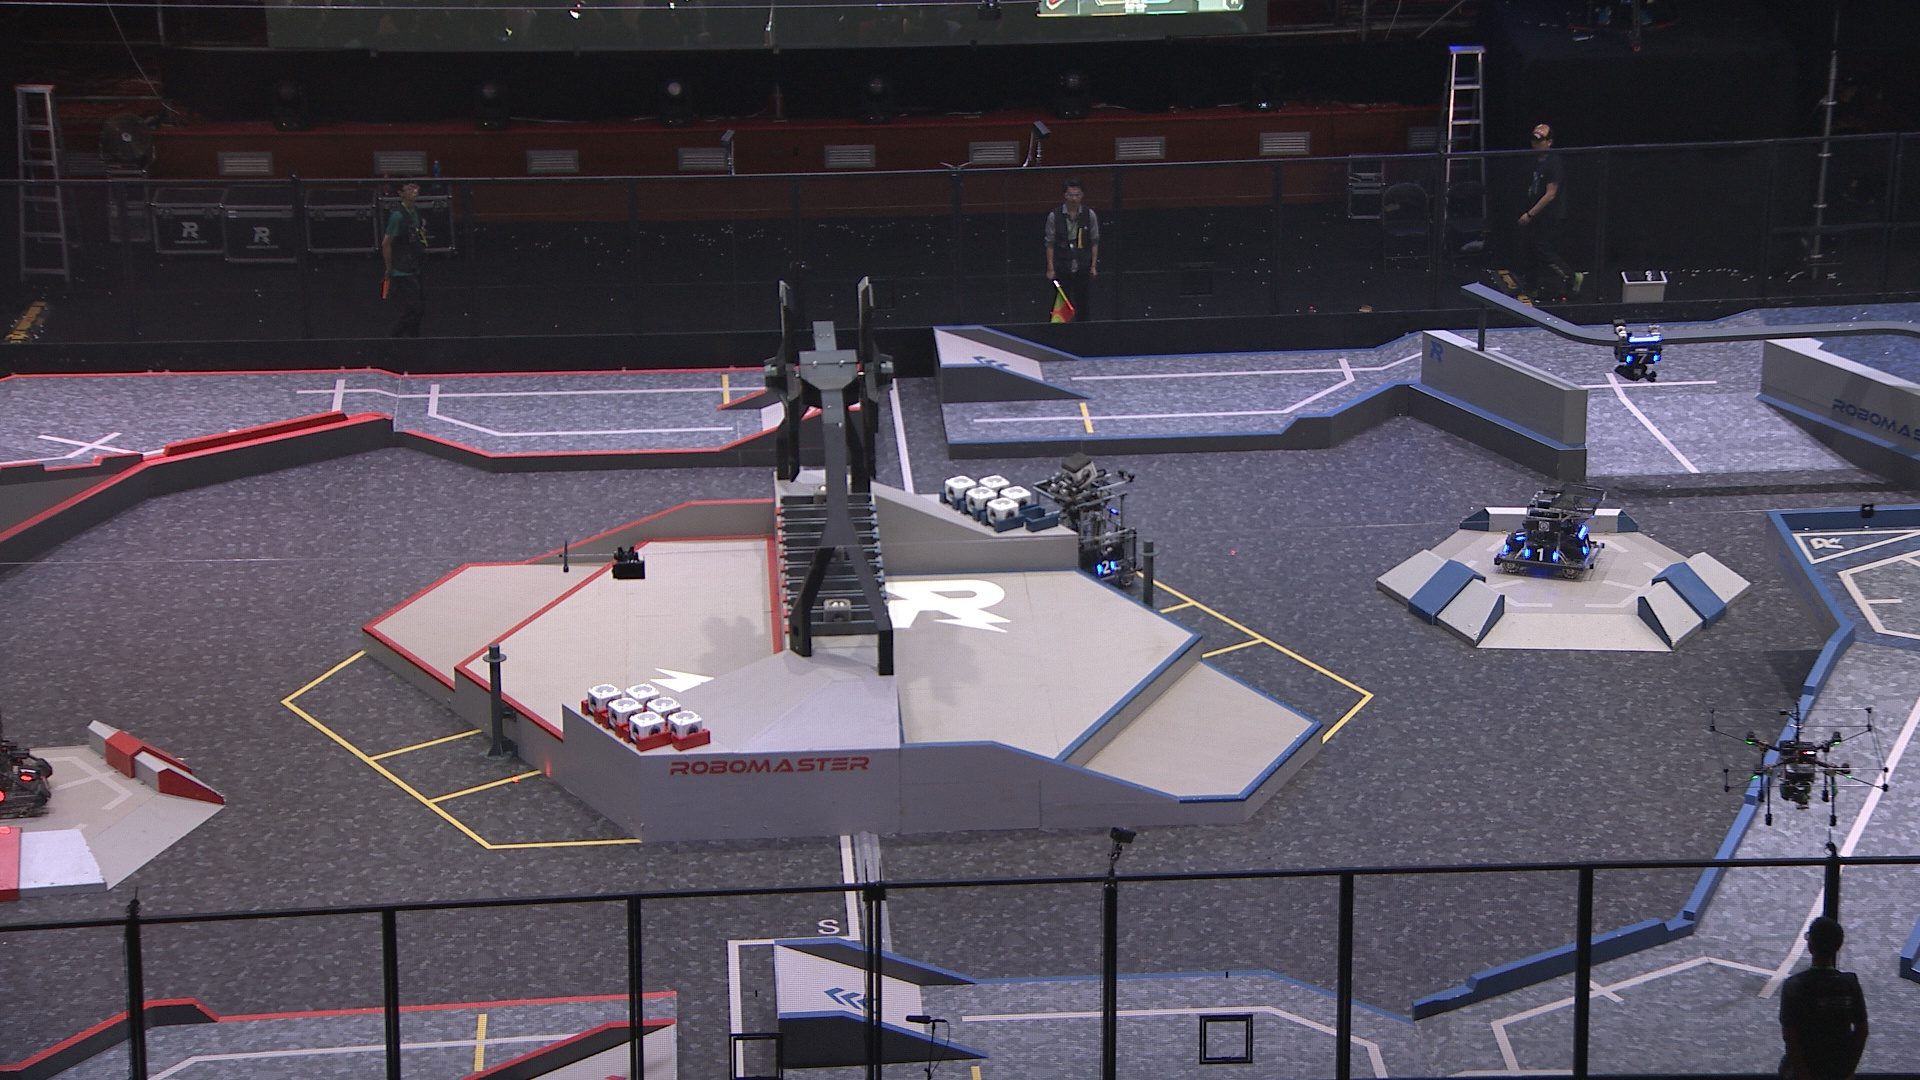armor: (1520, 546, 1561, 564), (1623, 348, 1662, 367), (21, 757, 38, 782), (1096, 555, 1117, 575), (1580, 537, 1598, 556), (1513, 527, 1528, 543)
car: (1026, 458, 1150, 593), (1494, 485, 1607, 583)
watcher: (1611, 320, 1665, 382)
